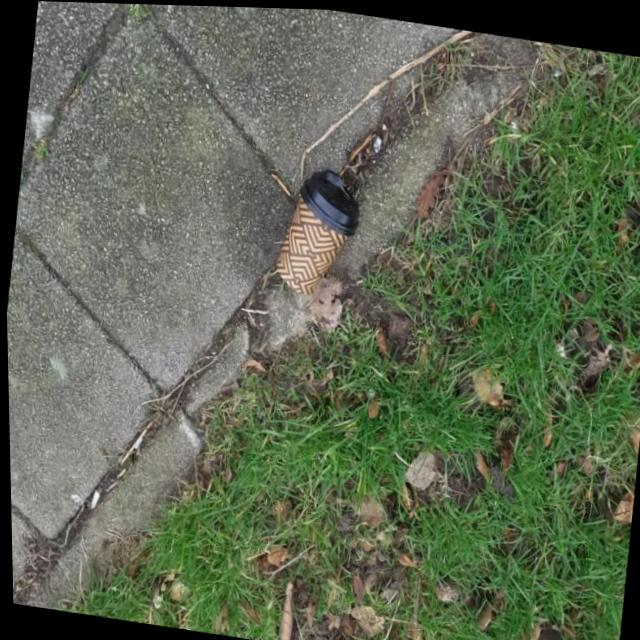Cup: (266, 157, 365, 299)
